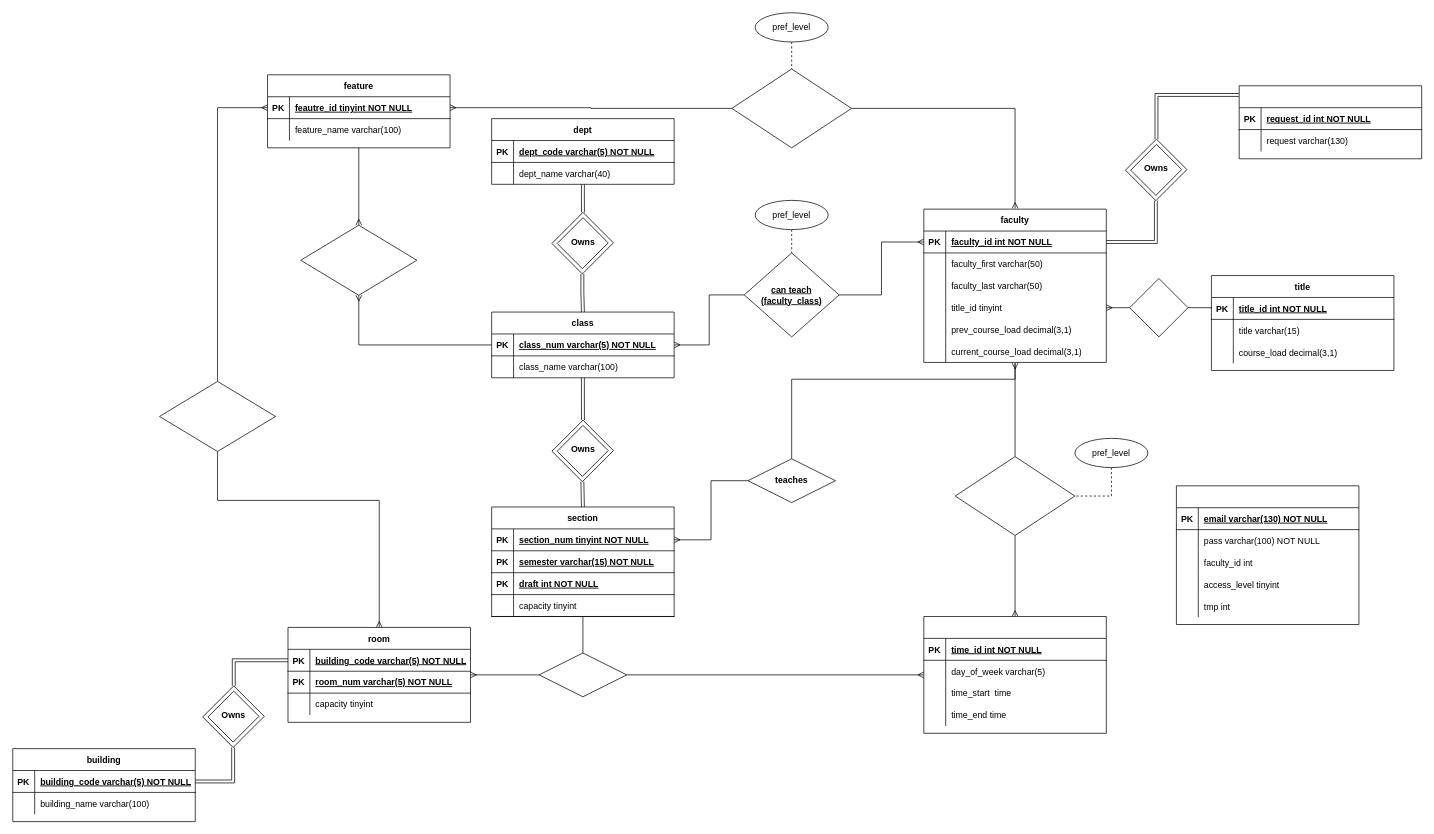
The diagram is 1434 pixels wide and 834 high, and some of its shapes have lost their labels. The shapes that lost their labels are listed below. From the top down, each one's box as (x1, y1, x2, y2) in pixels, then its label:
(731, 68, 852, 148): prefers (faculty_feature)
(1238, 85, 1422, 159): faculty_other_request
(300, 224, 417, 295): has (class_feature)
(1129, 278, 1188, 337): has
(159, 381, 276, 452): has (room_feature)
(954, 456, 1075, 535): prefers (faculty_timeslot)
(1176, 485, 1359, 625): login
(538, 652, 627, 697): meets
(923, 616, 1106, 733): timeslot
